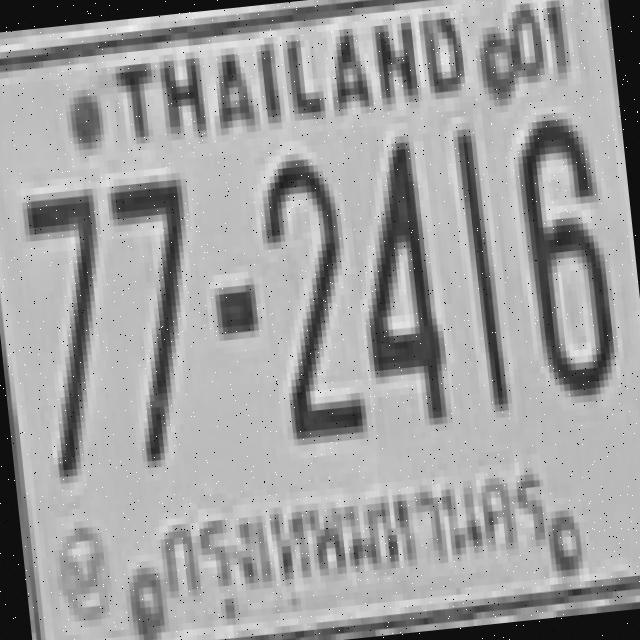1: (452, 125, 504, 409)
2: (252, 150, 361, 440), (254, 150, 356, 420)
4: (346, 134, 446, 423)
6: (508, 110, 612, 393)
7: (107, 172, 207, 462), (18, 186, 118, 474), (19, 185, 110, 389), (104, 172, 195, 370)
Bangkok: (140, 448, 558, 614)
